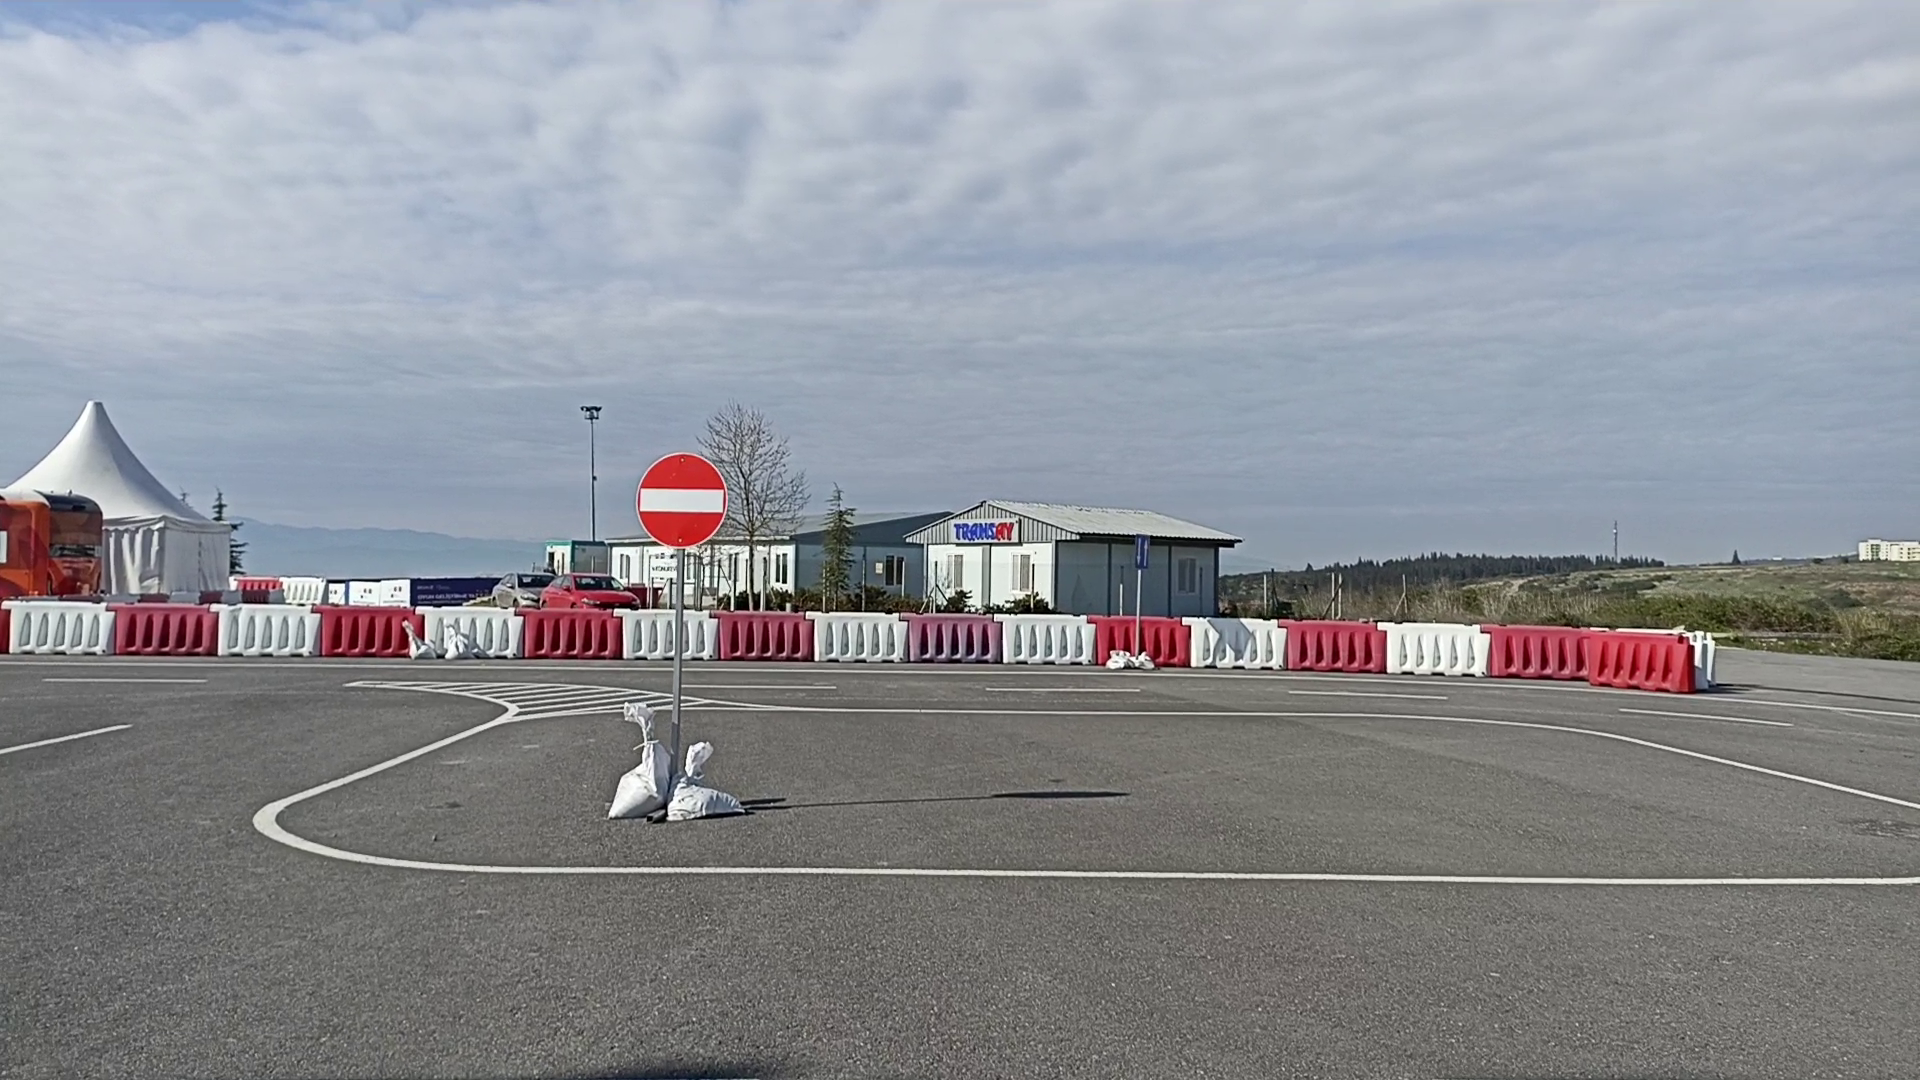noentryway: (632, 450, 731, 550)
